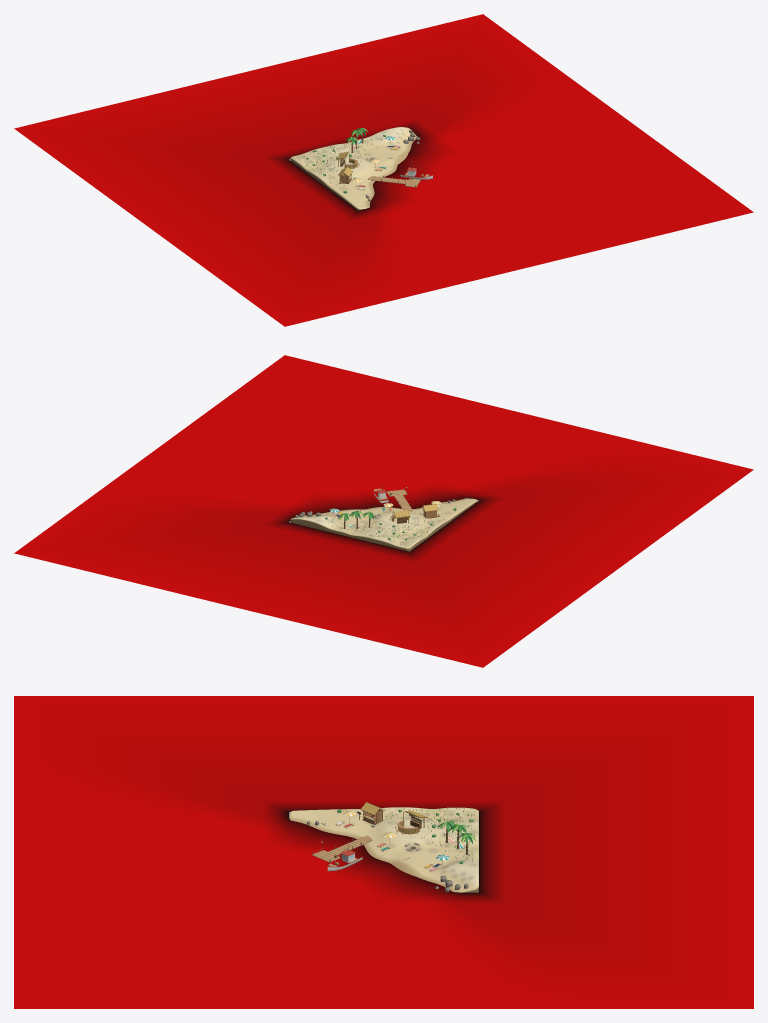
The model's file is beach.glb.
3 views of the same model, one above another, from view 1: azimuth 30°, elevation 25°; view 2: azimuth 150°, elevation 25°; view 3: azimuth 270°, elevation 25° (orthographic). The views are drawn at different scales.
Visible parts, largest first — view 1: Beach_Sea, Beach_Ground, Beach_Static; view 2: Beach_Sea, Beach_Ground, Beach_Static; view 3: Beach_Sea, Beach_Ground, Beach_Static.
Part boxes in pixels (<box>): Beach_Sea: <box>14,14,753,326</box>; Beach_Ground: <box>290,127,417,210</box>; Beach_Static: <box>297,130,420,206</box>; Beach_Sea: <box>14,355,753,667</box>; Beach_Ground: <box>290,498,477,551</box>; Beach_Static: <box>295,486,456,545</box>; Beach_Sea: <box>14,696,753,1008</box>; Beach_Ground: <box>289,807,478,892</box>; Beach_Static: <box>307,802,474,891</box>.
Bounding box in the file's own units: 140 × 7.19 × 140.
